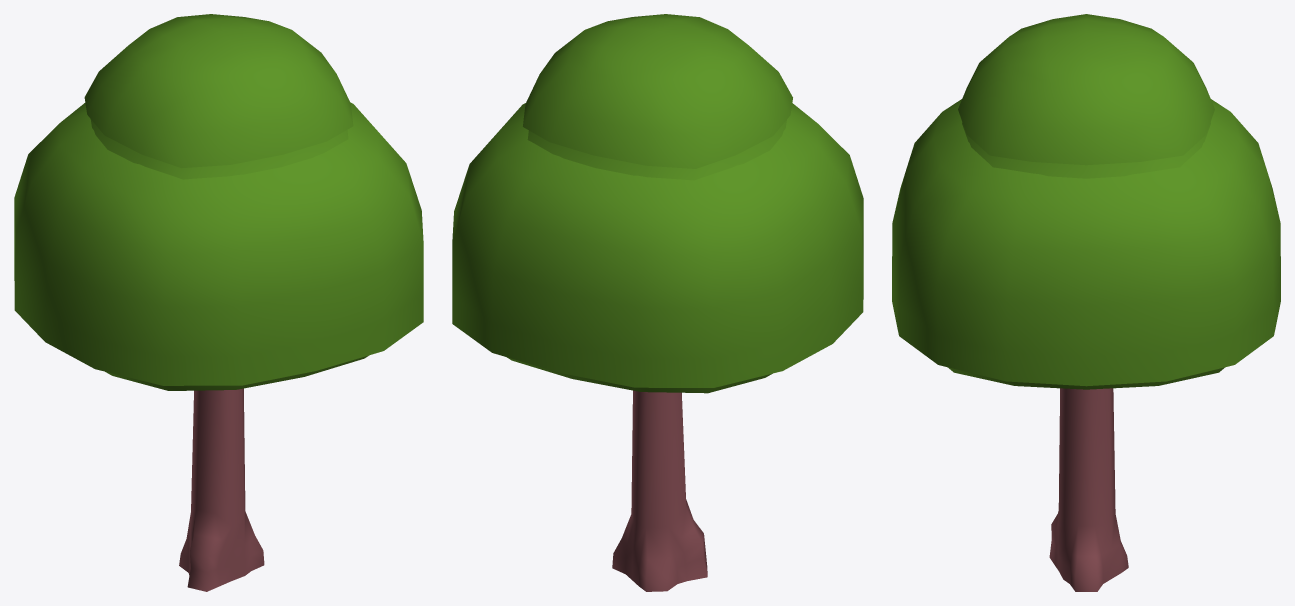
File: Tree_WIP (1).fbx
The picture shows the model from 3 angles, left to right: view 1: azimuth 30°, elevation 25°; view 2: azimuth 150°, elevation 25°; view 3: azimuth 270°, elevation 25°; orthographic projection.
Parts seen in each view (by area): view 1: Tree2; view 2: Tree2; view 3: Tree2.
Part boxes in pixels (left/top/right/bottom): Tree2: left=14, top=14, right=423, bottom=591; Tree2: left=452, top=14, right=863, bottom=591; Tree2: left=892, top=14, right=1280, bottom=591.
Size of the model in its own units: 173 by 256 by 168.
